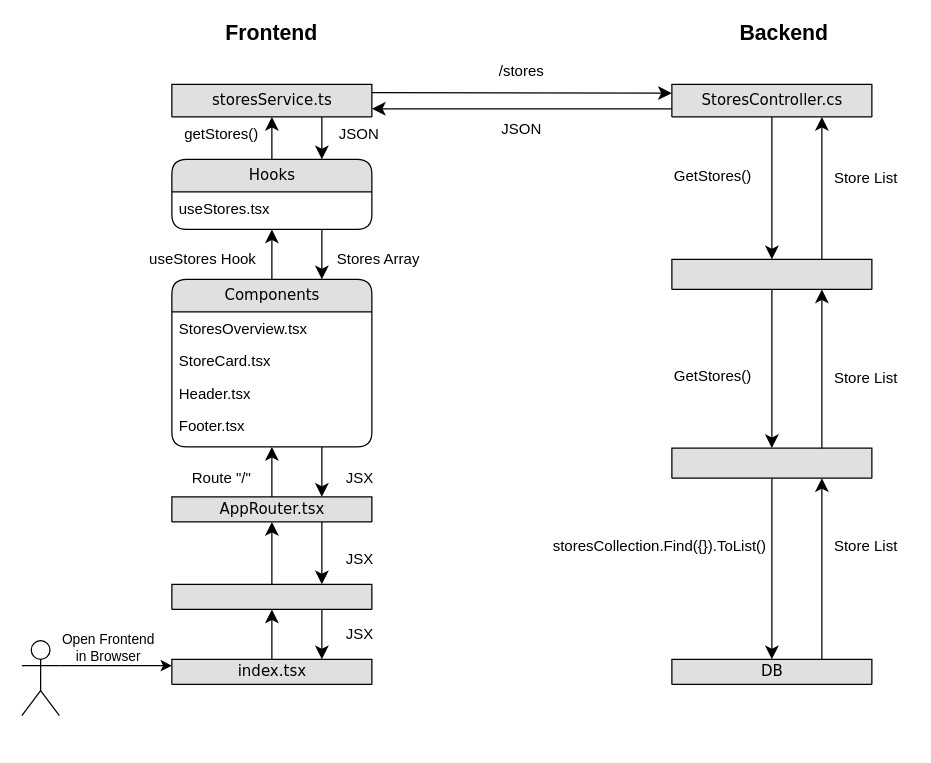
This 931x763 diagram has some shape labels left out. Each missing label, with the centre of its shape:
"App.tsx" goes at [271,596].
"StoreHandler.cs" goes at [771,273].
"StoreRepository.cs" goes at [771,462].
"User" goes at [40,677].
